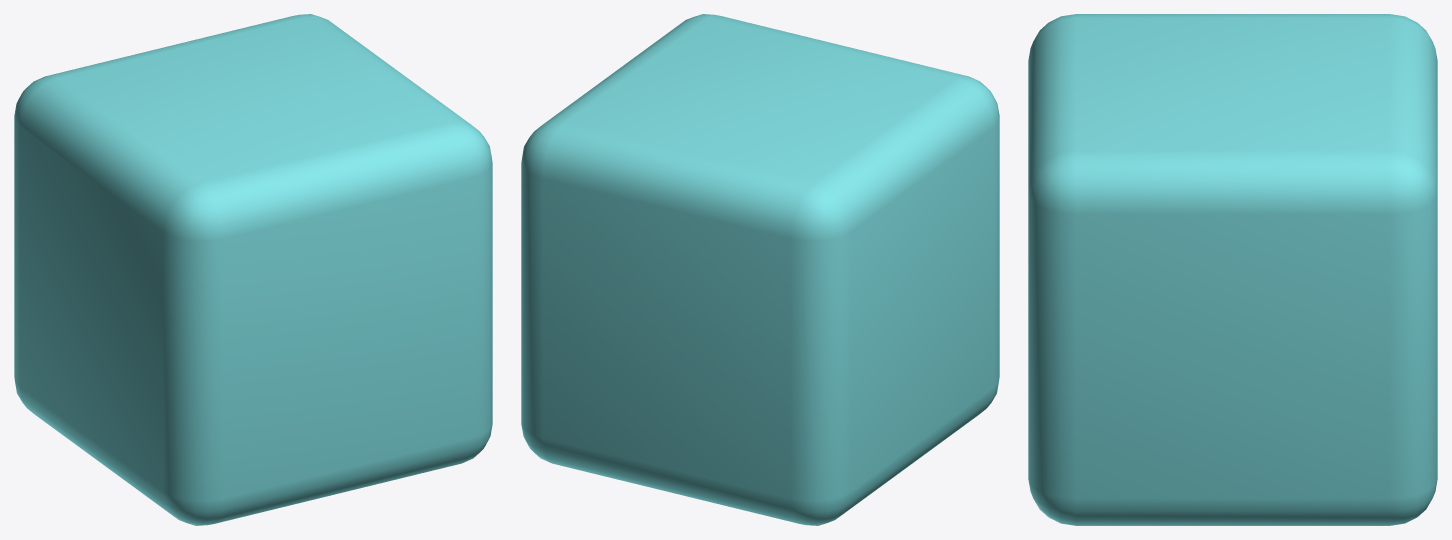
The picture shows the model from 3 angles, left to right: view 1: azimuth 30°, elevation 25°; view 2: azimuth 150°, elevation 25°; view 3: azimuth 270°, elevation 25°; orthographic projection. The views are drawn at different scales.
Parts seen in each view (by area): view 1: Cube; view 2: Cube; view 3: Cube.
Boxes of the visible parts, x1,y1,x2,y2 form: Cube: (14,14,492,525); Cube: (521,14,999,525); Cube: (1028,14,1437,525).
Size of the model in its own units: 100 by 100 by 100.
